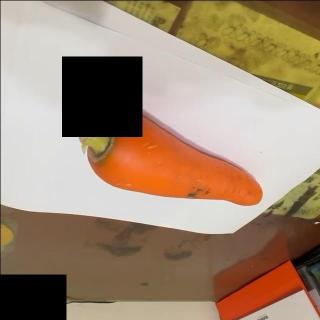carrot: (80, 110, 262, 206)
